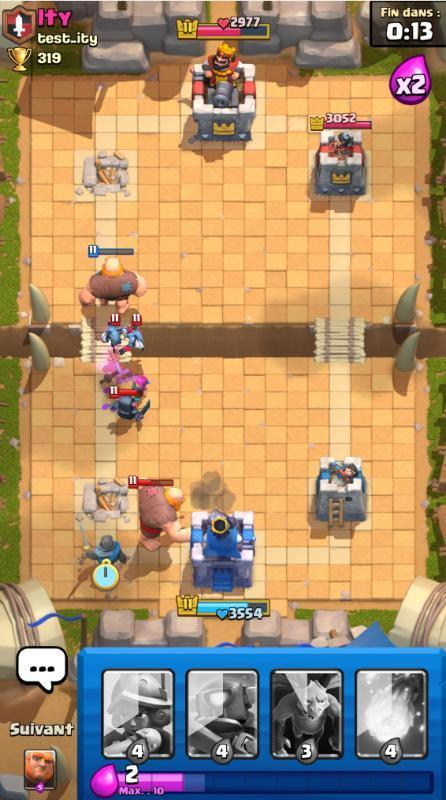enemy_archers: (121, 321, 146, 352), (98, 321, 125, 348)
enemy_giant: (131, 478, 192, 556)
enemy_mini_pekka: (98, 381, 158, 422)
player_giant: (76, 251, 151, 309)
player_knight: (75, 521, 135, 574)
